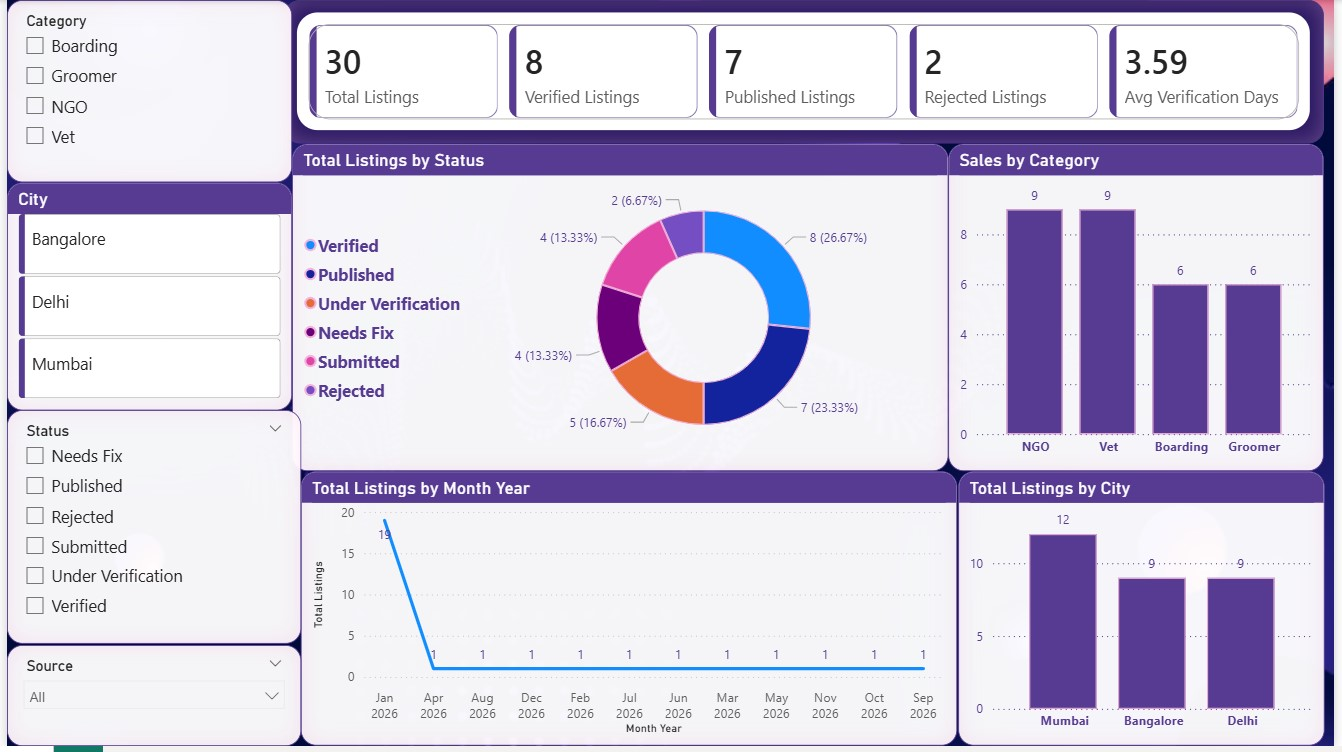

The page's visual inventory and layout, read from the dashboard file:
{"tool":"powerbi","page":{"name":"Page 1","canvas":[1280,720],"ordinal":0},"visuals":[{"type":"cardVisual","fields":{"Data":["Sheet1.Total Listings","Sheet1.Verified Listings","Sheet1.Published Listings","Sheet1.Rejected Listings","Sheet1.Avg Verification Days"]},"box":[268,0,1003.6,138.4],"z":0},{"type":"clusteredColumnChart","title":"Sales by Category","fields":{"Category":["Sheet1.Category"],"Y":["Sheet1.Total Listings"]},"box":[908.9,138.4,362.7,316.1],"z":1000},{"type":"columnChart","fields":{"Category":["Sheet1.City"],"Y":["Sheet1.Total Listings"]},"box":[917.6,454.4,353.9,265.1],"z":2000},{"type":"donutChart","fields":{"Category":["Sheet1.Status"],"Y":["Sheet1.Total Listings"]},"box":[275.3,138.4,633.6,316.1],"z":3000},{"type":"lineChart","fields":{"Category":["Sheet1.Month Year"],"Y":["Sheet1.Total Listings"]},"box":[284,454.4,633.6,265.1],"z":4000},{"type":"advancedSlicerVisual","fields":{"Values":["Sheet1.City"]},"box":[0,176.2,275.3,219.9],"z":5000},{"type":"slicer","fields":{"Values":["Sheet1.Category"]},"box":[0,0,275.3,176.2],"z":6000},{"type":"slicer","fields":{"Values":["Sheet1.Status"]},"box":[0,396.2,284,225.8],"z":7000},{"type":"slicer","fields":{"Values":["Sheet1.Source"]},"box":[0,621.9,284,97.6],"z":8000}]}

Visuals, with their boxes in screenshot pixels (x1, y1, x2, y2), scaled from the page's 1280x720 canvas onto the 1342x752 screenshot:
cardVisual - Sheet1.Total Listings x Sheet1.Verified Listings: <bbox>281, 0, 1333, 145</bbox>
"Sales by Category" clusteredColumnChart: <bbox>953, 145, 1333, 475</bbox>
columnChart - Sheet1.City x Sheet1.Total Listings: <bbox>962, 475, 1333, 751</bbox>
donutChart - Sheet1.Status x Sheet1.Total Listings: <bbox>289, 145, 953, 475</bbox>
lineChart - Sheet1.Month Year x Sheet1.Total Listings: <bbox>298, 475, 962, 751</bbox>
advancedSlicerVisual - Sheet1.City: <bbox>0, 184, 289, 414</bbox>
slicer - Sheet1.Category: <bbox>0, 0, 289, 184</bbox>
slicer - Sheet1.Status: <bbox>0, 414, 298, 650</bbox>
slicer - Sheet1.Source: <bbox>0, 650, 298, 751</bbox>
